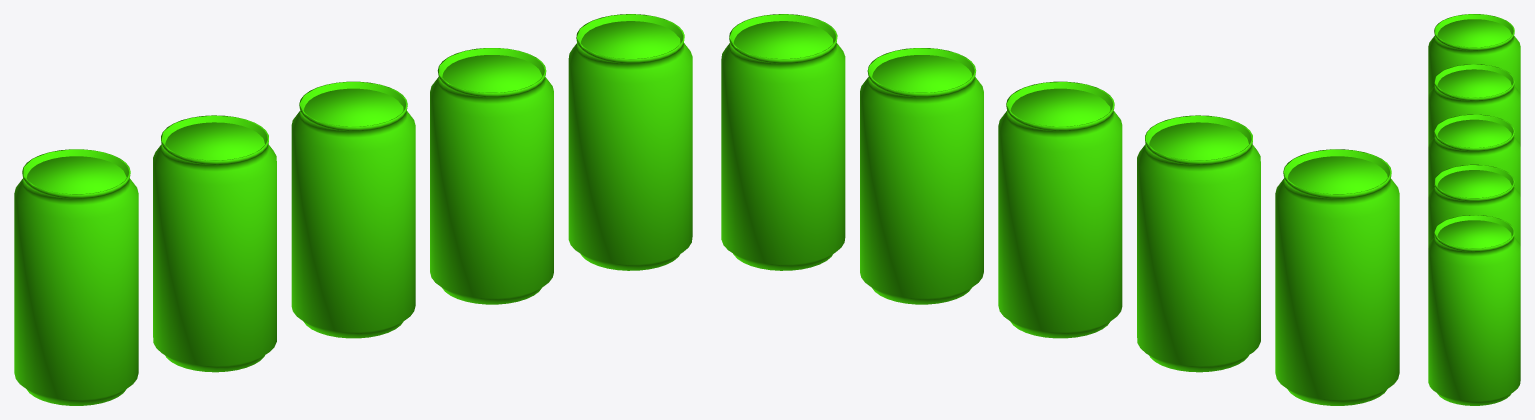
Rendered from can_edited_5.gltf.
3 views of the same model, side by side, from view 1: azimuth 30°, elevation 25°; view 2: azimuth 150°, elevation 25°; view 3: azimuth 270°, elevation 25° (orthographic). The views are drawn at different scales.
Parts seen in each view (by area): view 1: Cylinder_0.002; view 2: Cylinder_0.002; view 3: Cylinder_0.002.
Part boxes in pixels (x1=…): Cylinder_0.002: x1=14, y1=14, x2=692, y2=405; Cylinder_0.002: x1=721, y1=14, x2=1399, y2=405; Cylinder_0.002: x1=1428, y1=14, x2=1520, y2=405.
Bounding box in the file's own units: 28.64 × 8.78 × 4.65.
5 materials, 5 textured.
